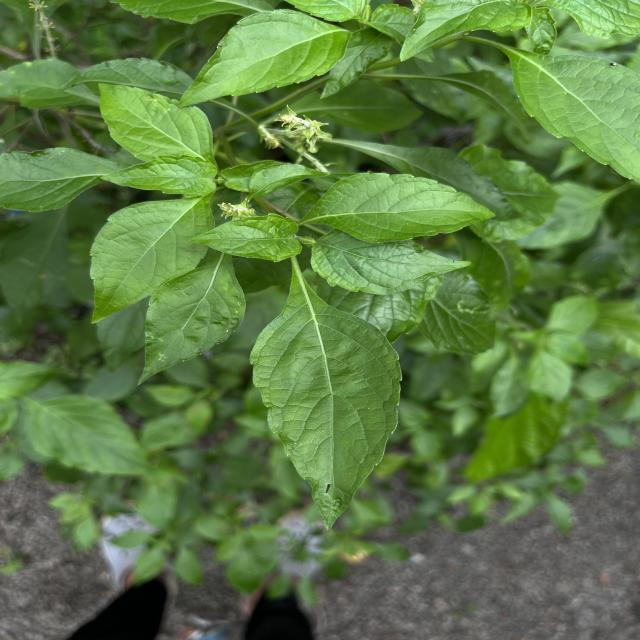Ocimum gratissimum: (246, 268, 406, 534), (501, 42, 640, 188), (174, 5, 357, 109), (85, 196, 219, 325), (135, 254, 250, 388), (301, 168, 498, 246), (308, 228, 478, 298), (94, 80, 216, 168), (0, 143, 128, 213), (182, 209, 306, 264), (97, 152, 220, 202)
